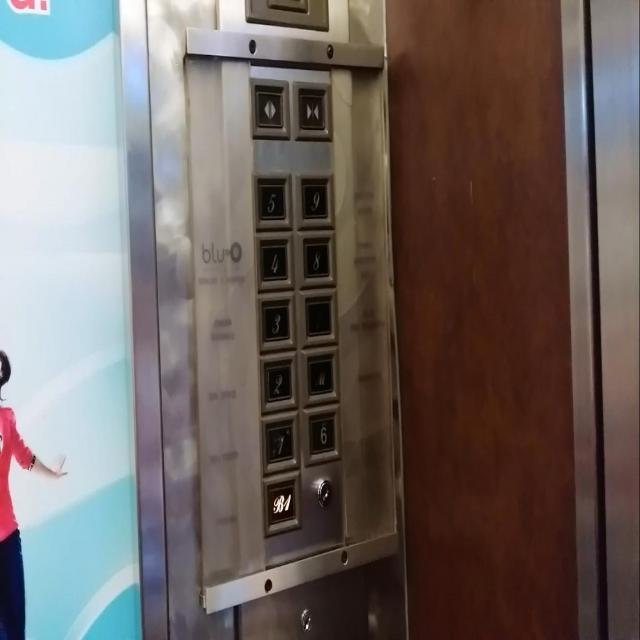1: (258, 410, 300, 477)
2: (258, 350, 299, 417)
3: (255, 291, 296, 356)
4: (253, 231, 294, 294)
5: (250, 171, 294, 233)
6: (298, 403, 343, 465)
8: (294, 230, 338, 288)
9: (292, 168, 337, 229)
B1: (261, 471, 300, 532)
blur: (296, 287, 342, 345), (302, 349, 341, 402)
close: (291, 79, 333, 143)
keyhole: (315, 476, 335, 509), (300, 607, 313, 635)
open: (248, 76, 291, 143)
